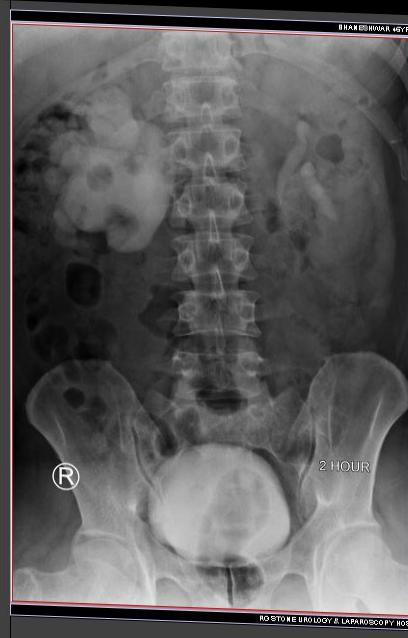bladder: (146, 450, 288, 587)
vertebrae: (151, 96, 255, 168)
